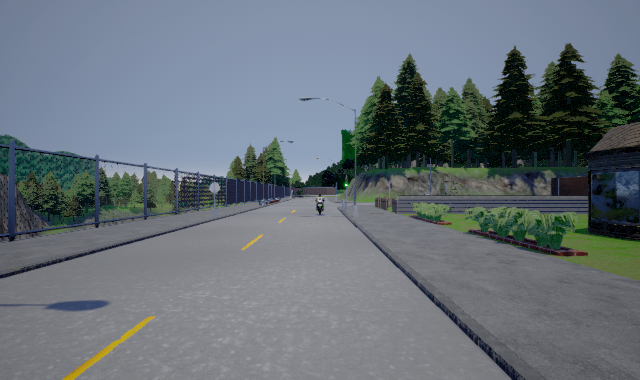motobike: (315, 193, 326, 215)
